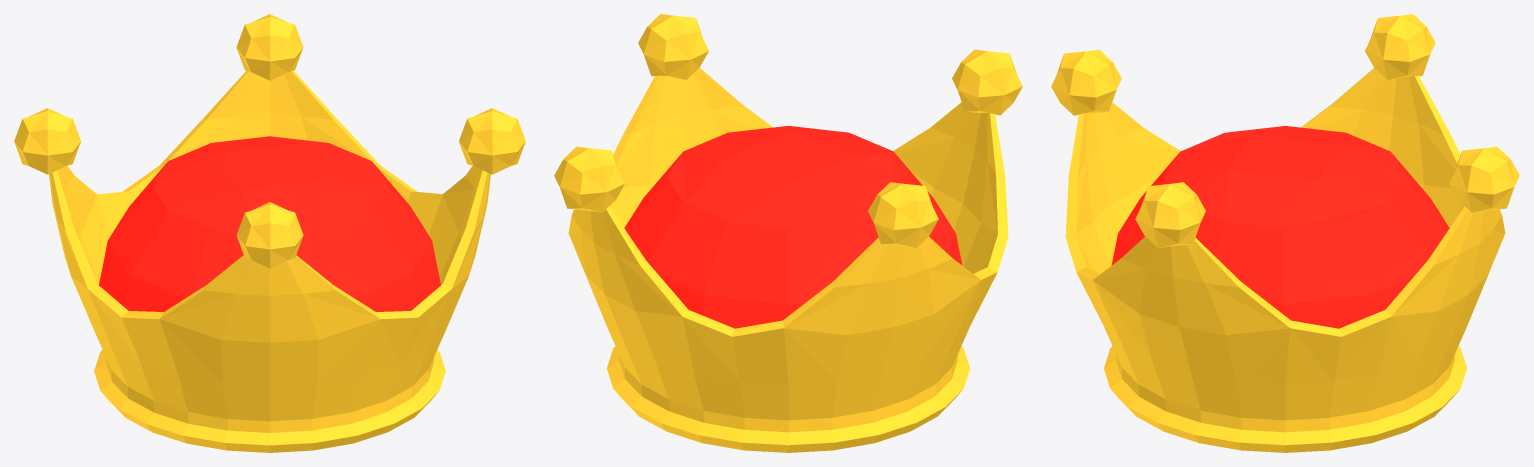
Rendered from crown2.glb.
The picture shows the model from 3 angles, left to right: view 1: azimuth 30°, elevation 25°; view 2: azimuth 150°, elevation 25°; view 3: azimuth 270°, elevation 25°; orthographic projection. The views are drawn at different scales.
Visible parts, largest first — view 1: Crown2; view 2: Crown2; view 3: Crown2.
Boxes of the visible parts, x1=… form: Crown2: x1=14, y1=14, x2=525, y2=452; Crown2: x1=554, y1=14, x2=1022, y2=452; Crown2: x1=1051, y1=14, x2=1519, y2=452.
Size of the model in its own units: 88.62 by 58.5 by 88.62.
